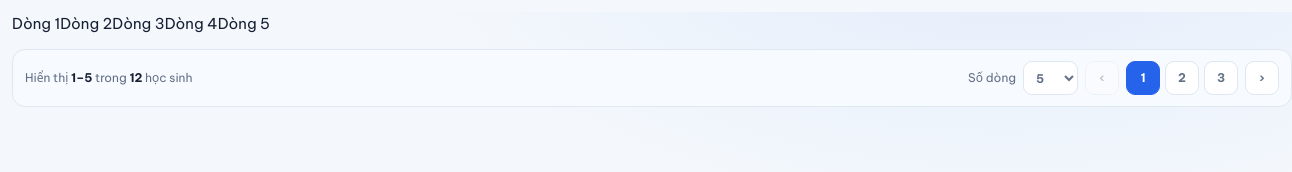
Async › paginates array data with the shared controls
This screenshot has width=1292, height=172.
Expected: the text "Dòng 1" is shown, x1=12 y1=14 x2=60 y2=33
Expected: the text "Dòng 6" is not shown
Click the button named "Trang sau" at coordinates (1262, 78), box x1=1245 y1=61 x2=1279 y2=95
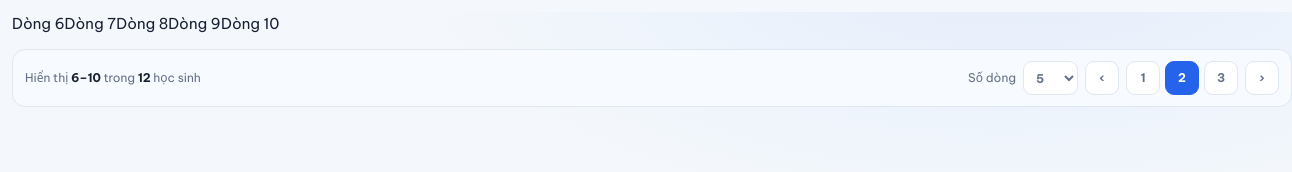
Now the text "Dòng 6" is shown, box x1=12 y1=14 x2=65 y2=33
Now the text "6–10" is shown, box x1=71 y1=70 x2=101 y2=85
